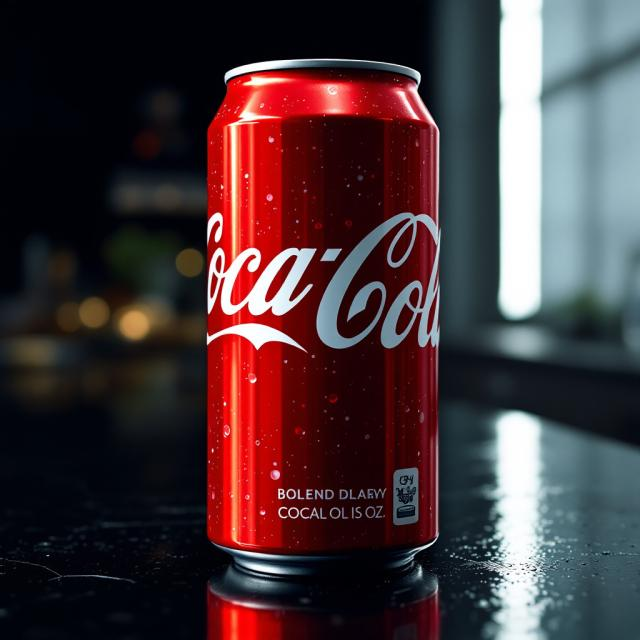cocacola: (184, 55, 458, 594)
